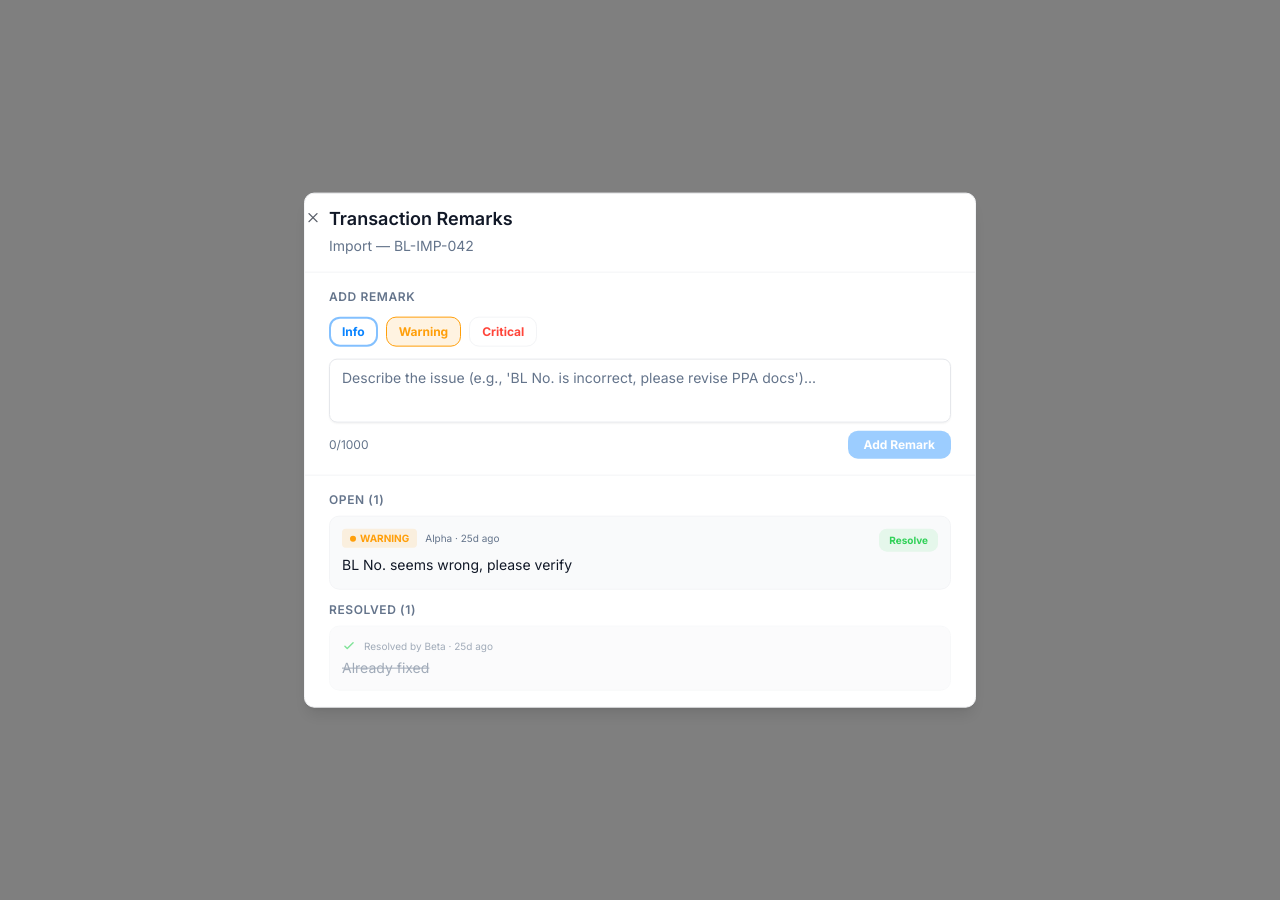
RemarkModal › tracks the message counter and disables submit while the message is empty
The width and height of the screenshot is (1280, 900).
Check: the button "Add Remark" is disabled, box [848,431,951,459]
Check: the text "0/1000" is shown, box [329,437,368,453]
Replace the text in the text box with "hello" at (640, 391), box [329,359,951,423]
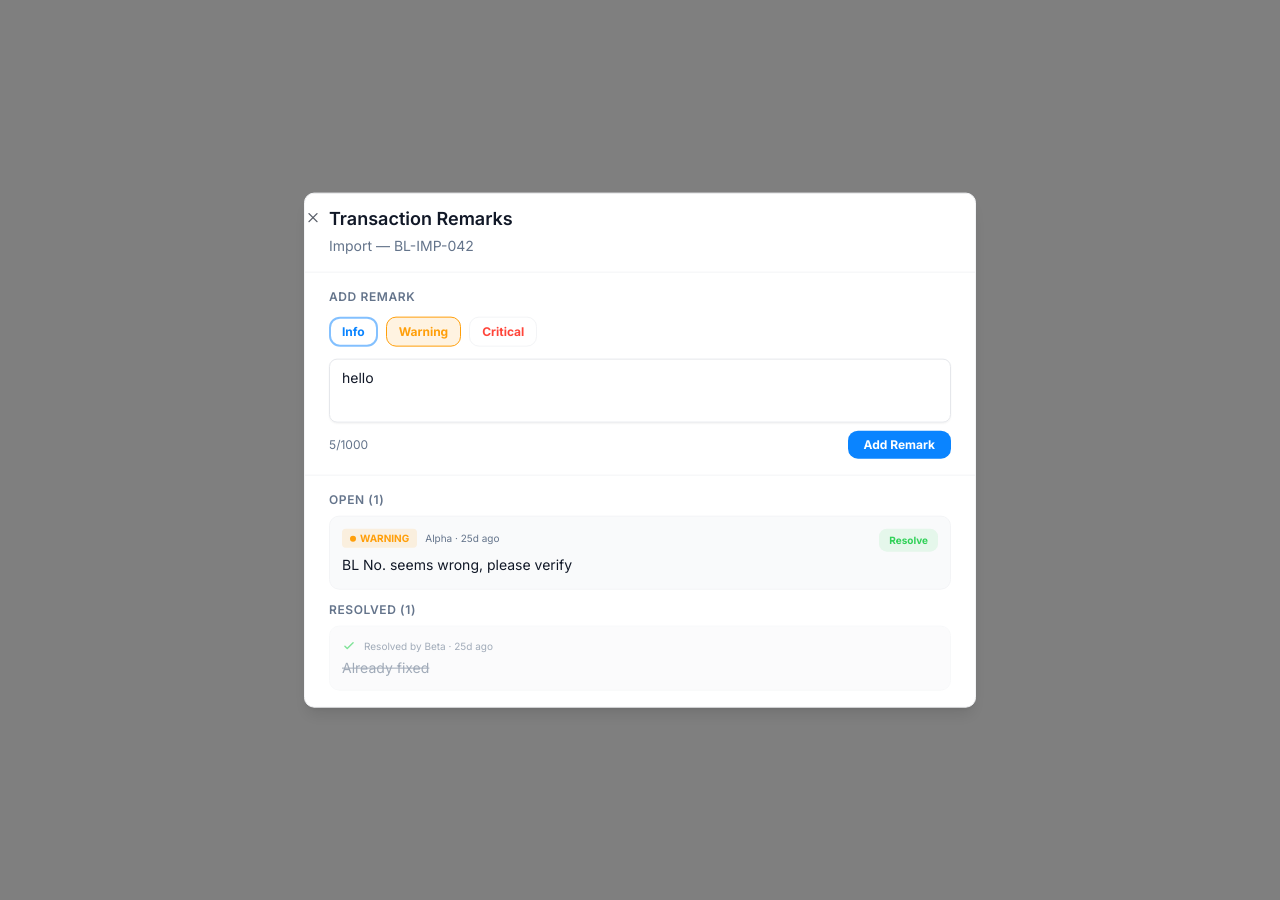
Check: the text "5/1000" is shown, box [329,437,368,453]
Check: the button "Add Remark" is enabled, box [848,431,951,459]
